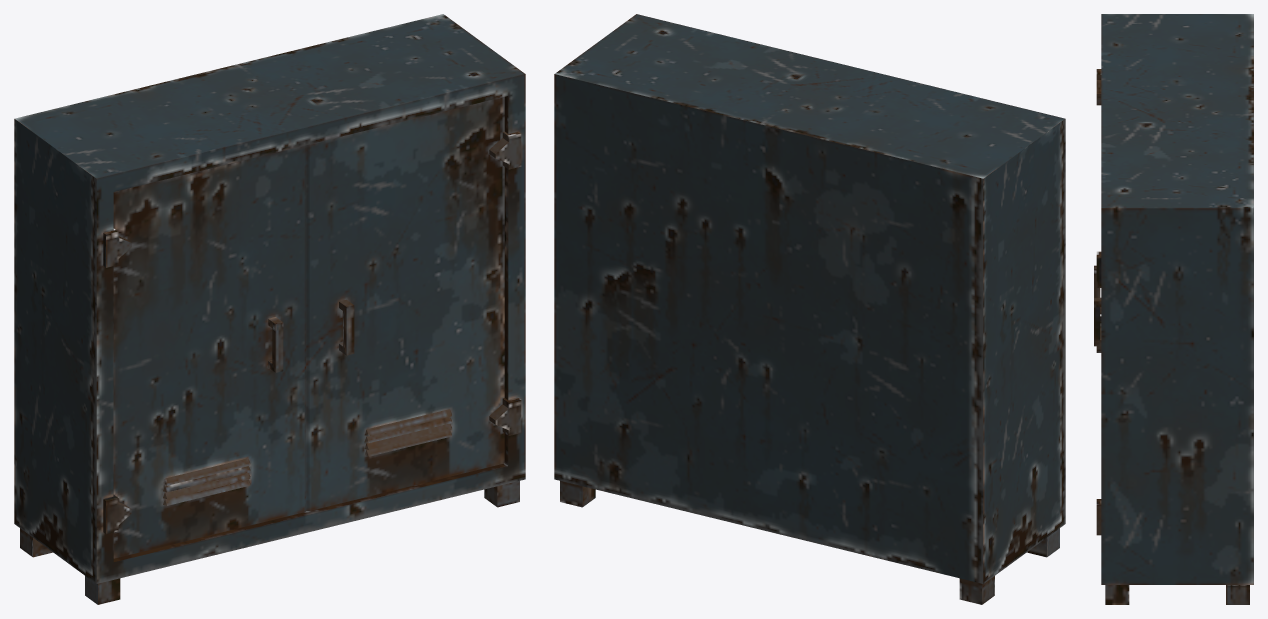
Rendered from Cabinet_02.fbx.
3 views of the same model, side by side, from view 1: azimuth 30°, elevation 25°; view 2: azimuth 150°, elevation 25°; view 3: azimuth 270°, elevation 25° (orthographic). The views are drawn at different scales.
Visible parts, largest first — view 1: Cabinet_02; view 2: Cabinet_02; view 3: Cabinet_02.
Boxes of the visible parts, x1,y1,x2,y2 form: Cabinet_02: (14, 14, 525, 604); Cabinet_02: (554, 14, 1065, 604); Cabinet_02: (1094, 14, 1253, 604).
Bounding box in the file's own units: 201 × 192 × 69.74.
1 material, 1 textured.
